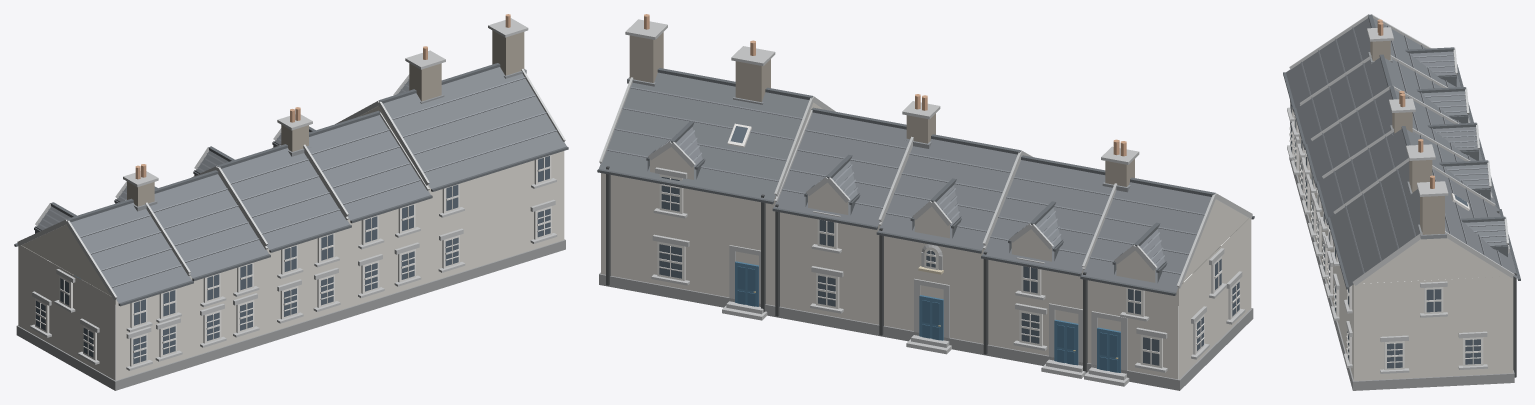
3 views of the same model, side by side, from view 1: azimuth 30°, elevation 25°; view 2: azimuth 150°, elevation 25°; view 3: azimuth 270°, elevation 25° (orthographic). The views are drawn at different scales.
Visible parts, largest first — view 1: slate, harl_grey, stone_band, frame, plinth, slate_dk, slate_lt, chim_stone; view 2: slate, harl_grey, stone_band, slate_dk, plinth, slate_lt, frame, chim_stone, pipe, door_blue_p, door_blue, window_glass_002 (+1 smaller); view 3: slate, harl_grey, stone_band, slate_lt, slate_dk, frame, plinth, chim_stone, pipe, window_glass_031, window_glass_032, pot (+2 smaller).
Part boxes in pixels (x1,y1,x2,y2): slate: [17, 67, 566, 303]; harl_grey: [18, 106, 564, 380]; stone_band: [17, 18, 565, 370]; frame: [35, 155, 551, 366]; plinth: [16, 239, 565, 390]; slate_dk: [14, 63, 568, 306]; slate_lt: [38, 77, 556, 287]; chim_stone: [127, 30, 524, 206]; slate: [599, 72, 1252, 292]; harl_grey: [601, 102, 1251, 379]; stone_band: [599, 19, 1252, 386]; slate_dk: [597, 68, 1254, 295]; plinth: [599, 272, 1253, 390]; slate_lt: [607, 86, 1204, 274]; frame: [657, 123, 1240, 368]; chim_stone: [629, 32, 1134, 186]; pipe: [606, 166, 1087, 372]; door_blue_p: [737, 266, 1117, 372]; door_blue: [735, 261, 1120, 372]; window_glass_002: [659, 244, 681, 278]; slate: [1286, 18, 1517, 287]; harl_grey: [1293, 131, 1513, 380]; stone_band: [1287, 14, 1514, 373]; slate_lt: [1301, 25, 1506, 273]; slate_dk: [1283, 14, 1520, 289]; frame: [1289, 101, 1508, 370]; plinth: [1289, 157, 1514, 390]; chim_stone: [1370, 40, 1444, 234]; pipe: [1496, 211, 1516, 377]; window_glass_031: [1387, 343, 1402, 368]; window_glass_032: [1465, 339, 1480, 364]; pot: [1377, 19, 1434, 188].
Bounding box in the file's own units: 25.3 × 10.07 × 10.54.
